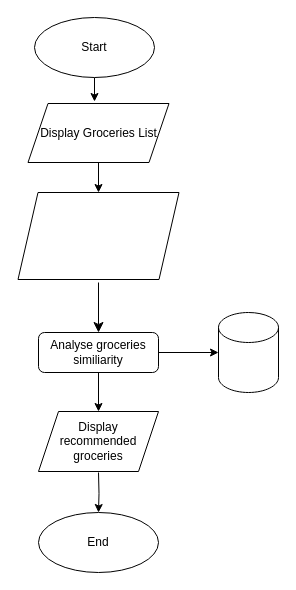
Image size: 296x590. Some labels were removed from this diagram. Here are the shapes that lost their labels. From the top down, the centre of each, then its label:
At [98,236]: "prompt input from the user to select groceries".
At [248,352]: "Dataset".
